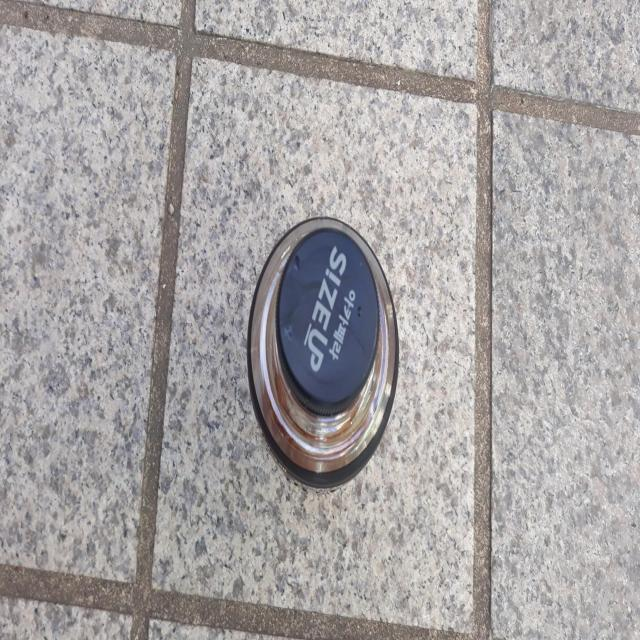plastic: (248, 216, 399, 487)
